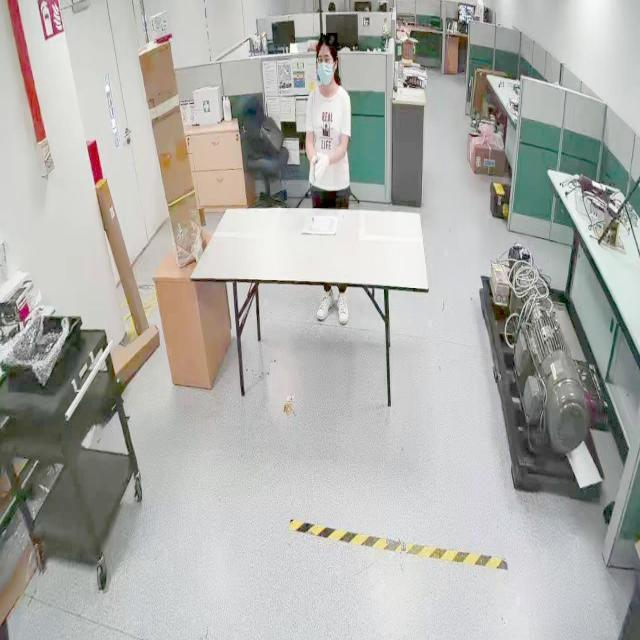face_mask: (316, 42, 340, 84)
hand_glove: (308, 142, 334, 191)
head_nohelmet: (316, 33, 338, 47)
person: (305, 43, 361, 340)
shoes: (311, 284, 337, 326), (333, 288, 351, 326)
